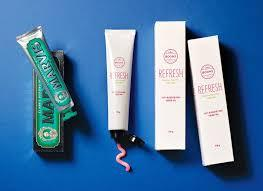toothpaste: (12, 20, 83, 118), (100, 27, 135, 146)
